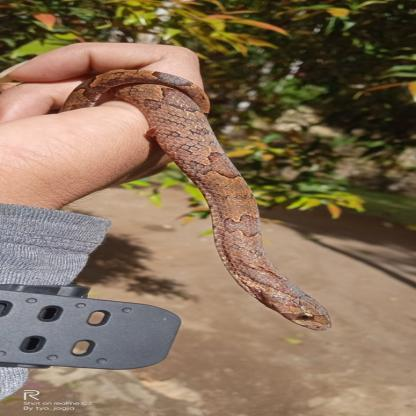Snake: (55, 70, 330, 340)
